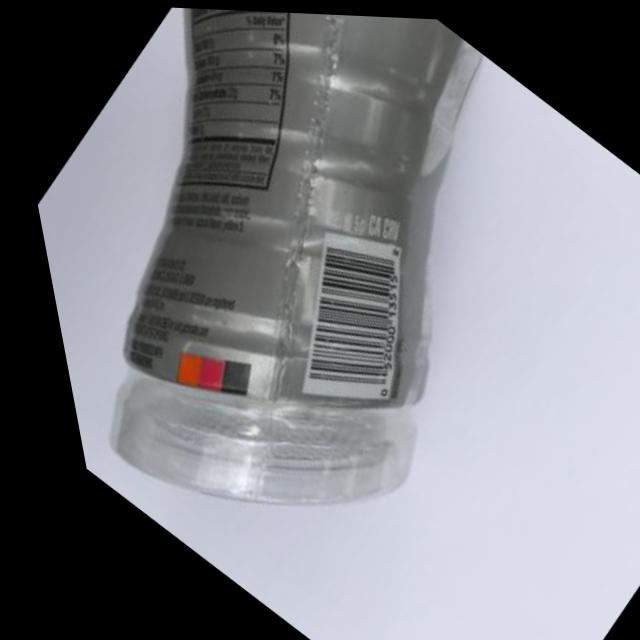plastic: (0, 0, 640, 639)
